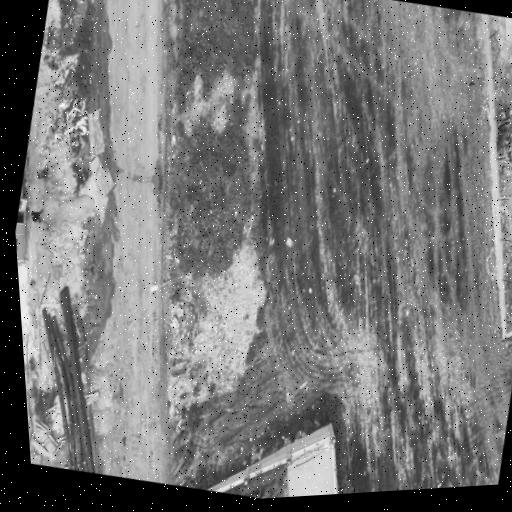person: (30, 210, 41, 222)
